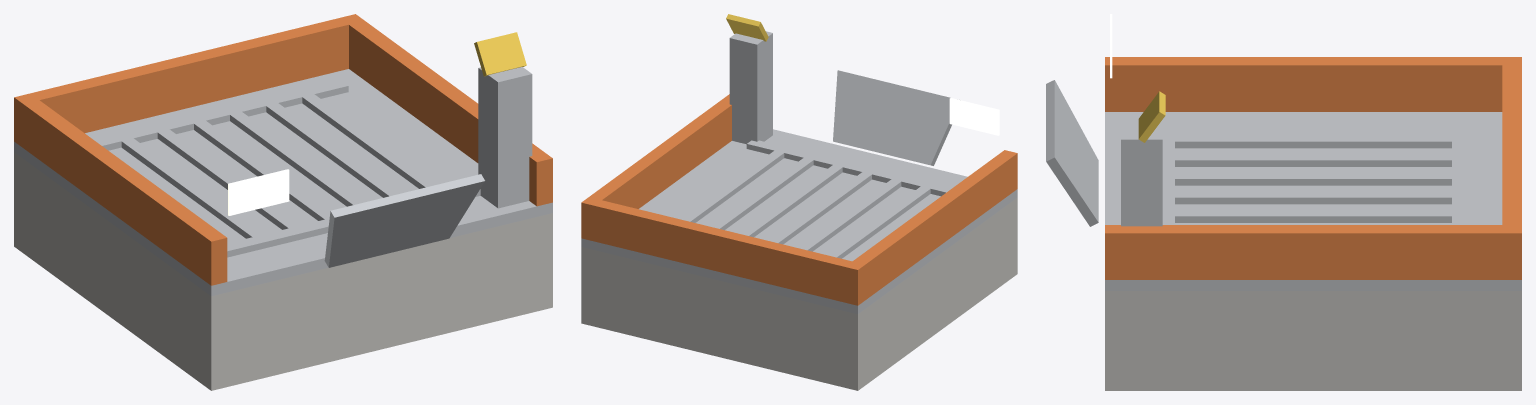
Rendered from underground-mine-and-shaft-works-ore-pass-raise-collar-9b0a8927.glb.
3 views of the same model, side by side, from view 1: azimuth 30°, elevation 25°; view 2: azimuth 150°, elevation 25°; view 3: azimuth 270°, elevation 25° (orthographic). The views are drawn at different scales.
Visible parts, largest first — view 1: ore-pass-raise-collar; view 2: ore-pass-raise-collar; view 3: ore-pass-raise-collar.
Boxes of the visible parts, x1,y1,x2,y2 form: ore-pass-raise-collar: [14, 14, 552, 390]; ore-pass-raise-collar: [581, 14, 1017, 390]; ore-pass-raise-collar: [1046, 14, 1521, 390].
Bounding box in the file's own units: 3.4 × 2.46 × 3.88.
